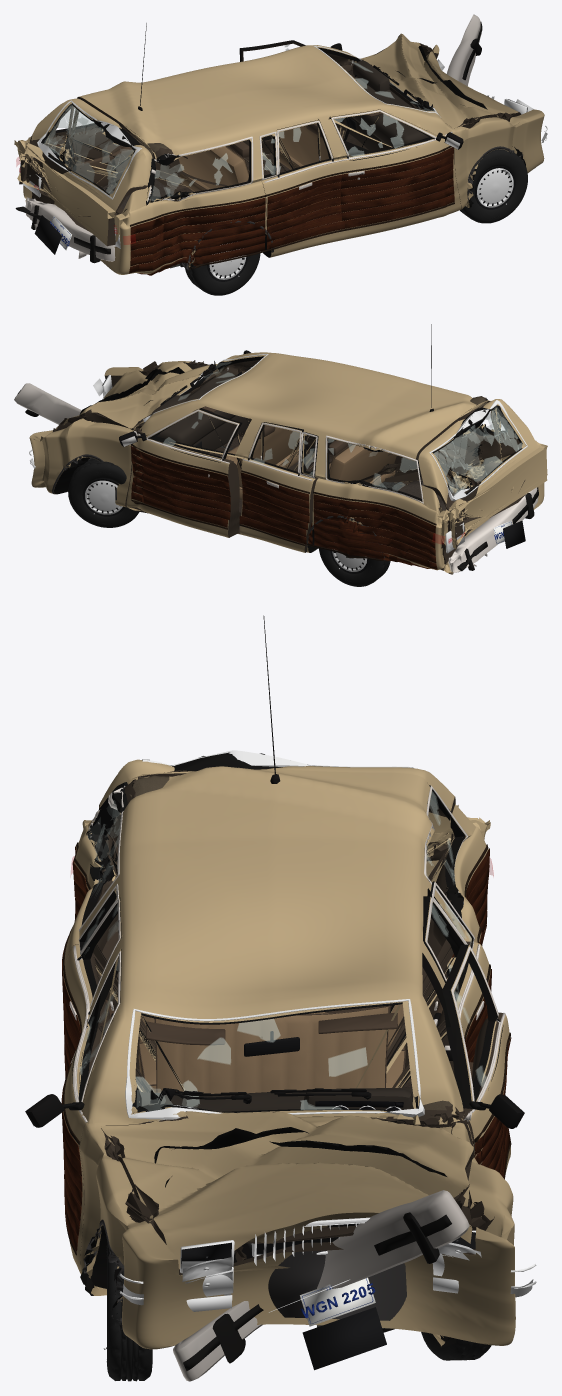
The model's file is wagon82_front_d2_lod1.glb.
3 views of the same model, one above another, from view 1: azimuth 30°, elevation 25°; view 2: azimuth 150°, elevation 25°; view 3: azimuth 270°, elevation 25° (orthographic). The views are drawn at different scales.
Visible parts, largest first — view 1: Body, Trim, Interior, Tailgate, Trim_FR, Hood, Trim_RR, Glass_Tailgate, Door_FR, Wheel_FR_mesh, Door_RR, Wheel_RR_mesh (+6 smaller); view 2: Body, Trim, Tailgate, Interior, Trim_FL, Trim_RL, Hood, Glass_Tailgate, Door_FL, Wheel_FL_mesh, Door_RL, Bumper_R (+5 smaller); view 3: Body, Hood, Interior, Ends, Bumper_F, Glass, Trim, Door_FL, Tailgate, Engine, Trim_FR, Trim_FL (+8 smaller).
Boxes of the visible parts, <box> form: Body: <box>14,44,544,274</box>; Trim: <box>51,23,526,275</box>; Interior: <box>75,60,428,209</box>; Tailgate: <box>17,98,152,246</box>; Trim_FR: <box>331,110,463,230</box>; Hood: <box>363,33,521,128</box>; Trim_RR: <box>259,121,344,249</box>; Glass_Tailgate: <box>37,100,141,199</box>; Door_FR: <box>330,109,460,239</box>; Wheel_FR_mesh: <box>460,149,527,223</box>; Door_RR: <box>261,119,344,256</box>; Wheel_RR_mesh: <box>185,225,260,295</box>; Body: <box>29,352,547,574</box>; Trim: <box>52,324,487,569</box>; Tailgate: <box>418,399,547,549</box>; Interior: <box>151,370,499,510</box>; Trim_FL: <box>119,409,238,529</box>; Trim_RL: <box>239,422,317,545</box>; Hood: <box>55,361,216,430</box>; Glass_Tailgate: <box>429,400,527,501</box>; Door_FL: <box>126,408,242,537</box>; Wheel_FL_mesh: <box>68,458,139,527</box>; Door_RL: <box>240,422,317,552</box>; Bumper_R: <box>448,487,538,574</box>; Body: <box>64,766,515,1349</box>; Hood: <box>100,1111,474,1269</box>; Interior: <box>138,1004,413,1111</box>; Ends: <box>119,872,536,1370</box>; Bumper_F: <box>173,1190,469,1381</box>; Glass: <box>86,782,464,1121</box>; Trim: <box>62,615,489,1331</box>; Door_FL: <box>441,944,510,1172</box>; Tailgate: <box>99,752,458,919</box>; Engine: <box>247,1243,406,1320</box>; Trim_FR: <box>25,951,120,1255</box>; Trim_FL: <box>451,946,524,1179</box>.
Bounding box in the file's own units: 4.54 × 2.23 × 2.19.
34 materials, 6 textured.
